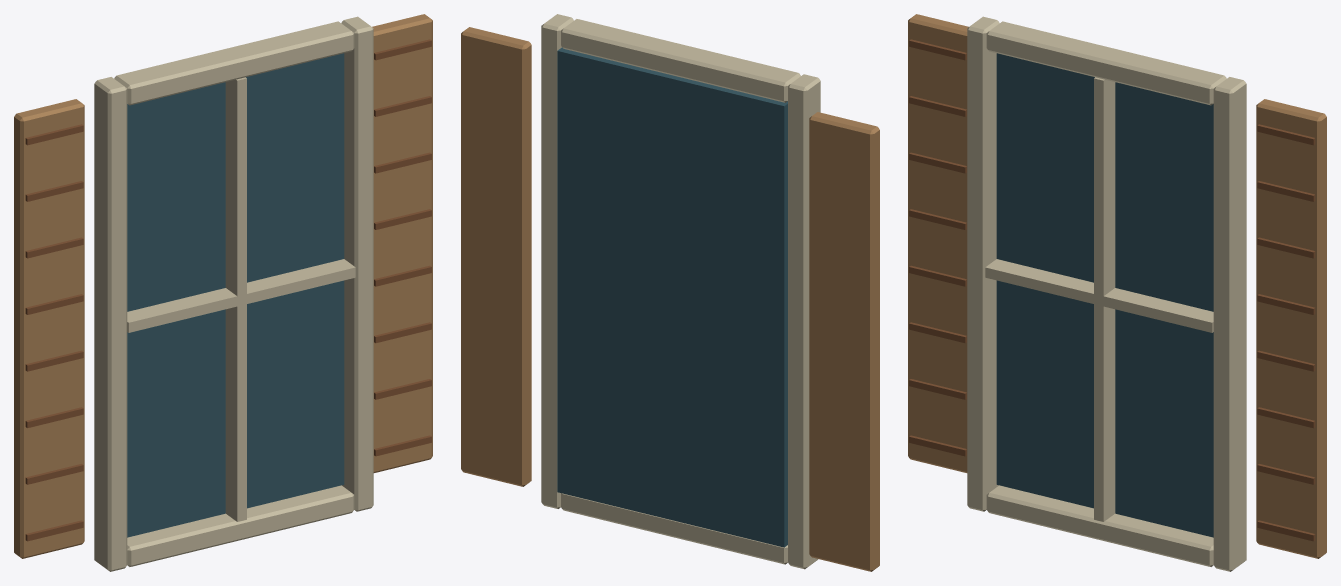
File: window_04.glb
3 renders of one model, left to right at view 1: azimuth 30°, elevation 25°; view 2: azimuth 150°, elevation 25°; view 3: azimuth 330°, elevation 25°, orthographic.
Visible parts, largest first — view 1: window_04; view 2: window_04; view 3: window_04.
Part boxes in pixels (x1,y1,x2,y2): window_04: [14, 14, 432, 571]; window_04: [461, 14, 879, 571]; window_04: [908, 14, 1326, 571].
Bounding box in the file's own units: 1.91 × 2.13 × 0.185.
